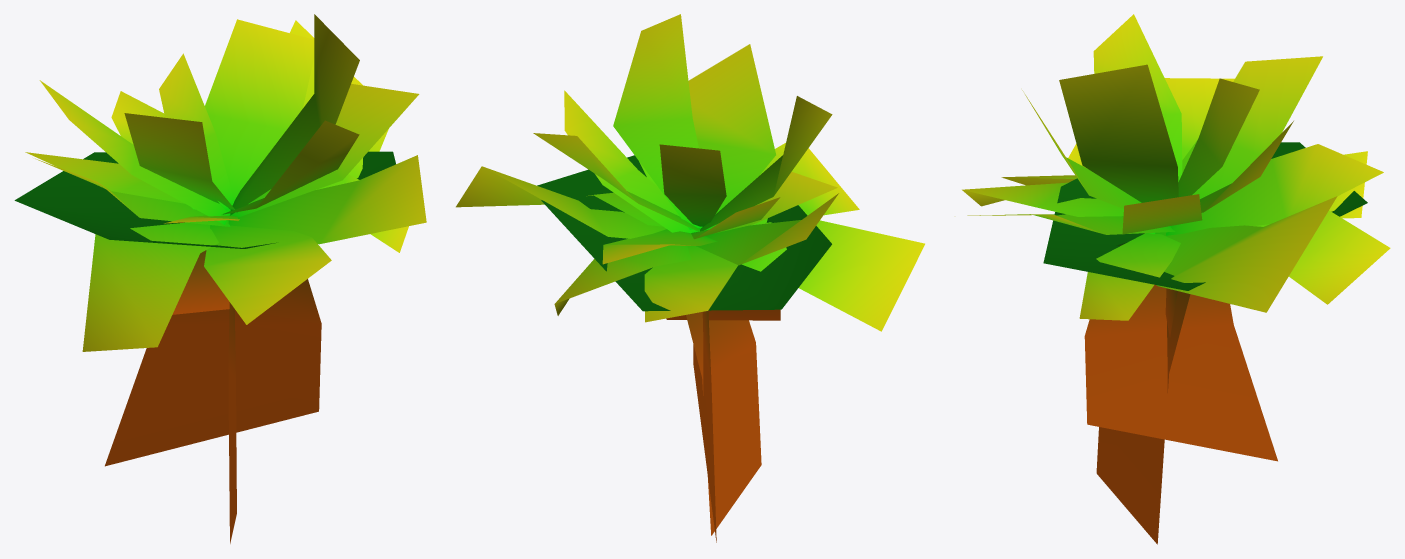
Rendered from Water Cabbage_LOD2_Var4_sjdlV.fbx.
3 renders of one model, left to right at view 1: azimuth 30°, elevation 25°; view 2: azimuth 150°, elevation 25°; view 3: azimuth 270°, elevation 25°, orthographic. The views are drawn at different scales.
Parts seen in each view (by area): view 1: _b3df_Var4_LOD2; view 2: _b3df_Var4_LOD2; view 3: _b3df_Var4_LOD2.
Part boxes in pixels (x1,y1,x2,y2): _b3df_Var4_LOD2: [14, 14, 426, 543]; _b3df_Var4_LOD2: [456, 14, 924, 542]; _b3df_Var4_LOD2: [962, 14, 1390, 544].
Size of the model in its own units: 18.64 by 23.98 by 18.26.
